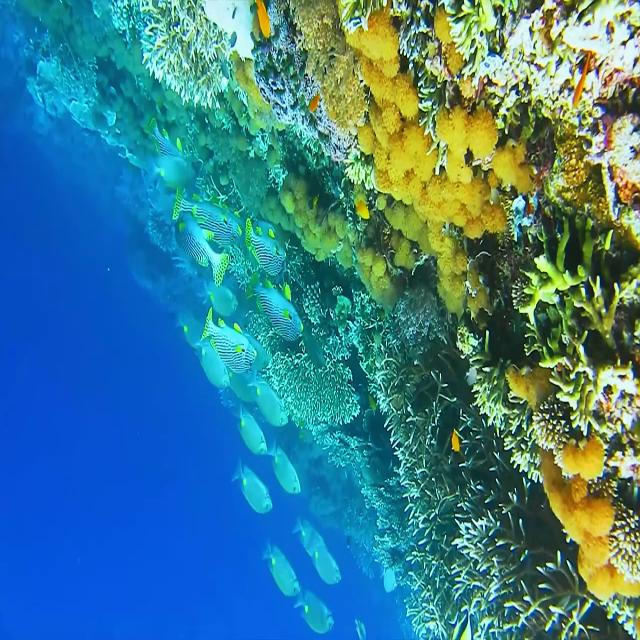fish: (172, 185, 242, 248), (244, 274, 304, 344), (176, 210, 226, 286), (204, 316, 258, 378), (245, 213, 286, 274), (261, 542, 303, 600), (247, 378, 290, 428), (298, 582, 334, 640), (236, 462, 274, 516), (233, 408, 269, 460), (308, 538, 342, 586), (268, 444, 300, 494)
